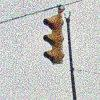traffic lights: (42, 14, 66, 66)
